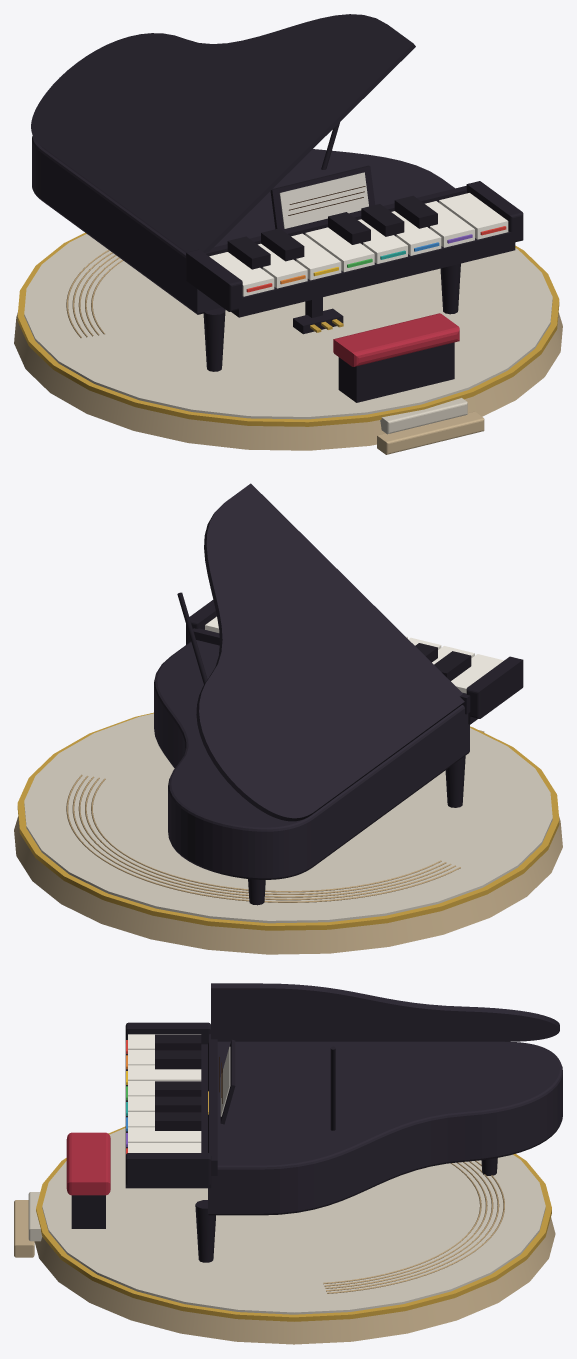
The model's file is grandPiano.glb.
3 renders of one model, top to bottom at view 1: azimuth 30°, elevation 25°; view 2: azimuth 150°, elevation 25°; view 3: azimuth 270°, elevation 25°, orthographic. The views are drawn at different scales.
Parts seen in each view (by area): view 1: part_000, part_004, part_003, part_002, part_019, part_011, part_005, part_009, part_017, part_007, part_022, part_015 (+5 smaller); view 2: part_000, part_004, part_002, part_003, part_005, part_021; view 3: part_000, part_002, part_004, part_003, part_009, part_017, part_022, part_025, part_021, part_024, part_023, part_019 (+2 smaller).
Part boxes in pixels (x1,y1,x2,y2): part_000: (14,232,562,454); part_004: (31,14,415,252); part_003: (186,122,523,402); part_002: (32,136,454,314); part_019: (439,193,508,239); part_011: (305,227,374,272); part_005: (209,252,274,296); part_009: (291,233,341,280); part_017: (425,201,474,247); part_007: (258,243,307,288); part_022: (261,228,304,261); part_015: (391,211,441,255); part_000: (14,712,562,954); part_004: (196,483,464,821); part_002: (154,640,469,879); part_003: (177,592,523,905); part_005: (451,654,503,693); part_021: (434,651,471,680); part_000: (14,1126,555,1344); part_002: (208,1041,562,1215); part_004: (211,983,559,1041); part_003: (66,1022,497,1262); part_009: (128,1065,201,1080); part_017: (128,1127,201,1142); part_022: (155,1050,201,1069); part_025: (155,1112,201,1130); part_021: (155,1034,201,1050); part_024: (155,1096,201,1112); part_023: (155,1081,201,1096); part_019: (128,1143,201,1152).
Bounding box in the file's own units: 10.7 × 6.53 × 11.23.
